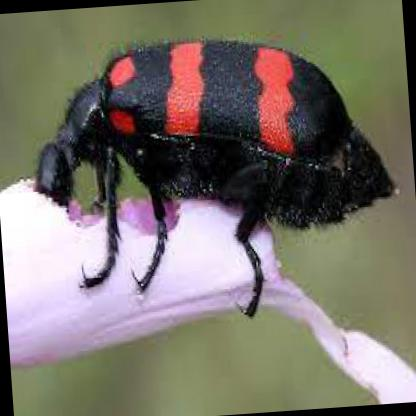blister beetle: (37, 39, 400, 316)
